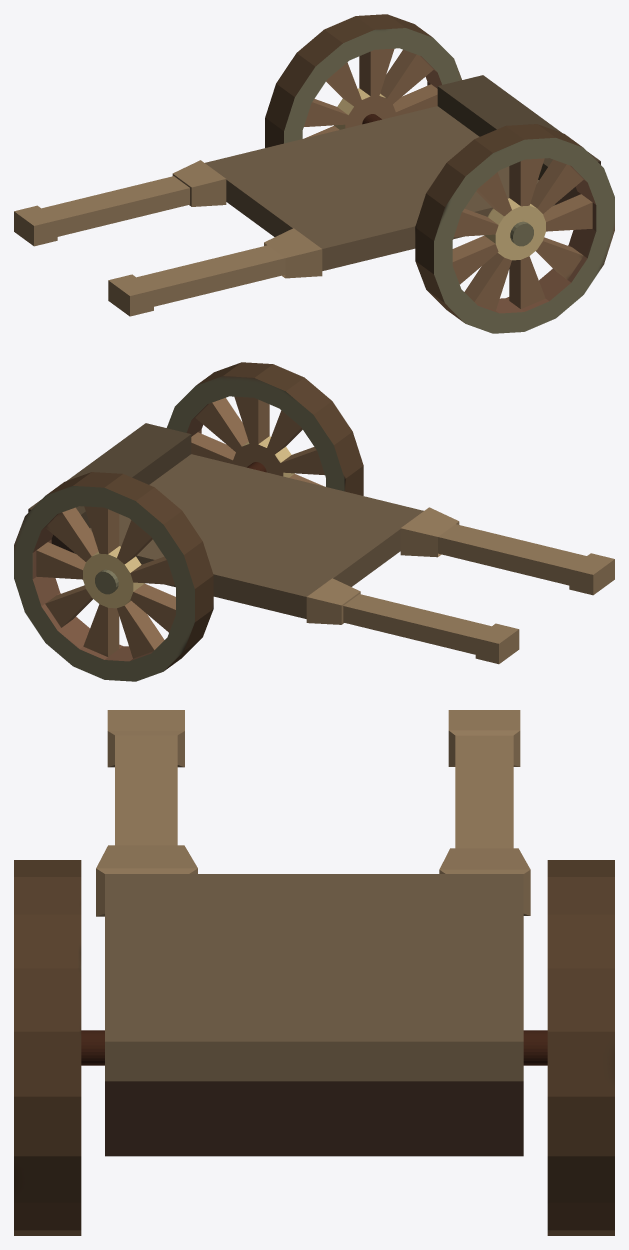
The model's file is carroça.fbx.
3 views of the same model, one above another, from view 1: azimuth 30°, elevation 25°; view 2: azimuth 150°, elevation 25°; view 3: azimuth 270°, elevation 25° (orthographic). The views are drawn at different scales.
Parts seen in each view (by area): view 1: Cube, Circle, Circle.002; view 2: Cube, Circle.002, Circle; view 3: Cube, Circle, Circle.002, Cylinder.
Boxes of the visible parts, x1=… form: Cube: x1=14, y1=75, x2=600, y2=316; Circle: x1=415, y1=124, x2=614, y2=333; Circle.002: x1=265, y1=14, x2=461, y2=147; Cube: x1=28, y1=423, x2=614, y2=664; Circle.002: x1=14, y1=472, x2=213, y2=681; Circle: x1=167, y1=362, x2=363, y2=495; Cube: x1=96, y1=710, x2=530, y2=1156; Circle: x1=14, y1=860, x2=81, y2=1235; Circle.002: x1=547, y1=860, x2=614, y2=1235; Cylinder: x1=81, y1=1030, x2=547, y2=1065.
Size of the model in its own units: 512 by 200 by 318.
3 materials, 3 textured.
